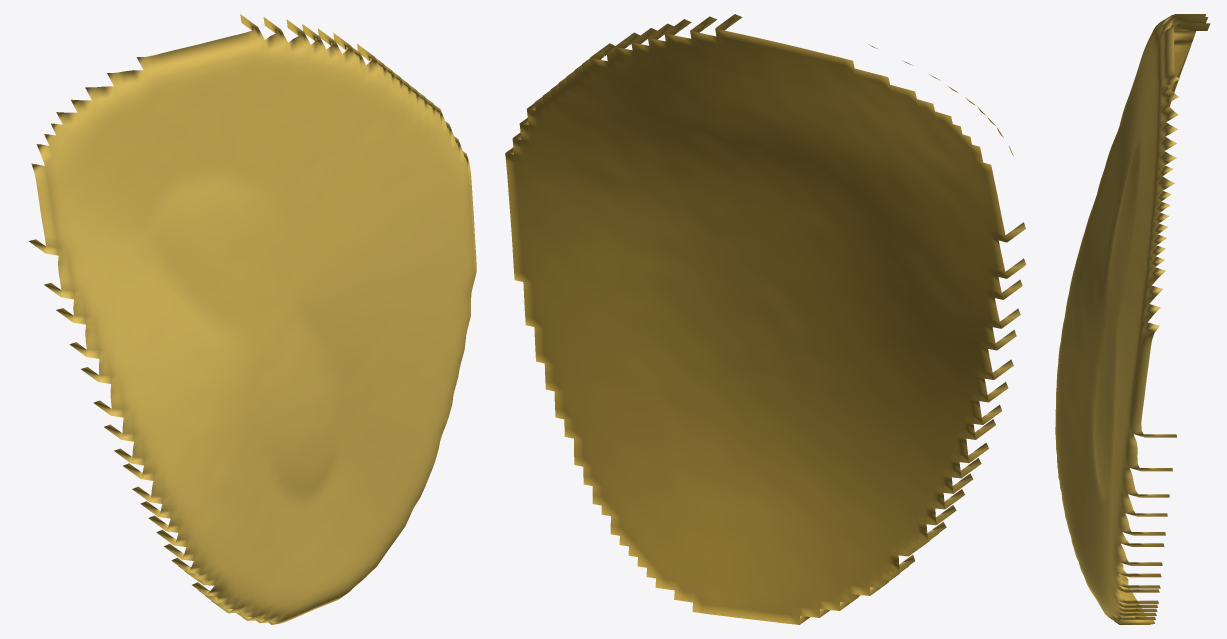
The model's file is PAIR-MET-PAD_RIGHT_addon.glb.
3 renders of one model, left to right at view 1: azimuth 30°, elevation 25°; view 2: azimuth 150°, elevation 25°; view 3: azimuth 270°, elevation 25°, orthographic. The views are drawn at different scales.
Visible parts, largest first — view 1: geometry_0; view 2: geometry_0; view 3: geometry_0.
Part boxes in pixels (x1=…): geometry_0: x1=29, y1=14, x2=476, y2=624; geometry_0: x1=505, y1=14, x2=1025, y2=624; geometry_0: x1=1055, y1=14, x2=1210, y2=624.
Bounding box in the file's own units: 57 × 70 × 19.14.
